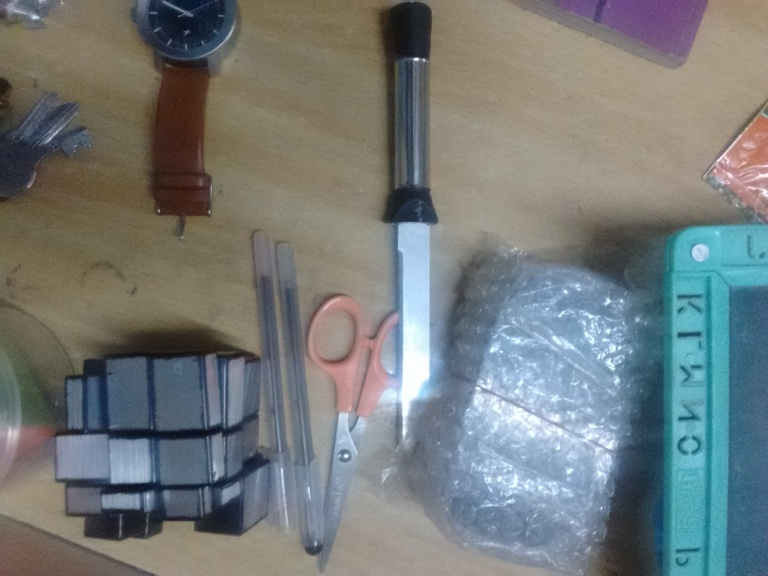knife: (384, 10, 440, 459)
